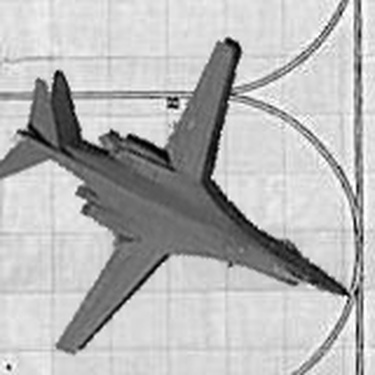airplane: (1, 26, 355, 360)
